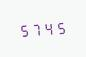five: (18, 21, 29, 37), (54, 19, 65, 35)
four: (42, 20, 53, 36)
seven: (30, 20, 41, 37)
